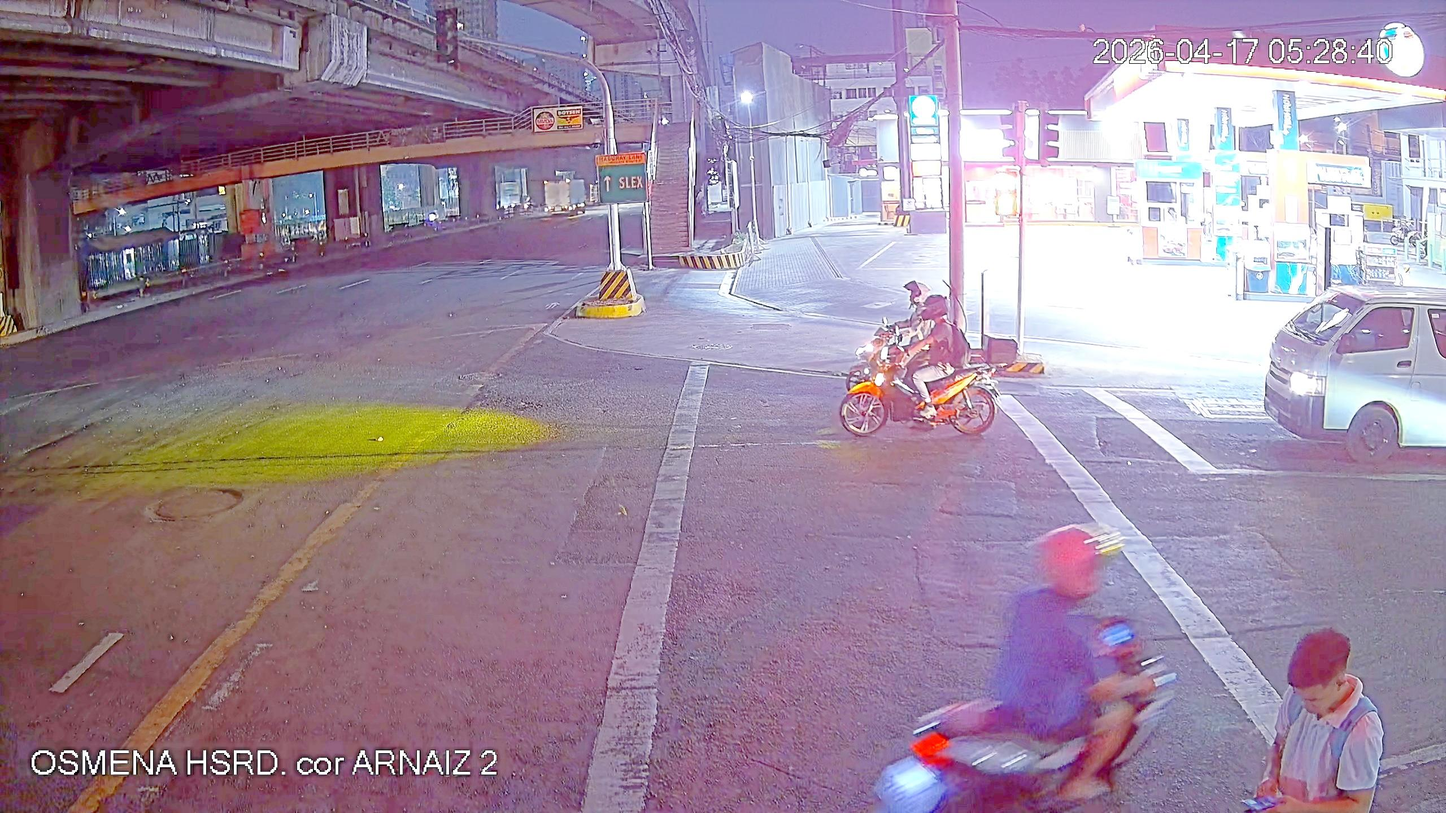Car: (1262, 283, 1446, 458)
Motor: (881, 637, 1157, 811), (844, 346, 1004, 445), (841, 326, 928, 387)
Not Accident: (817, 275, 1015, 435)
